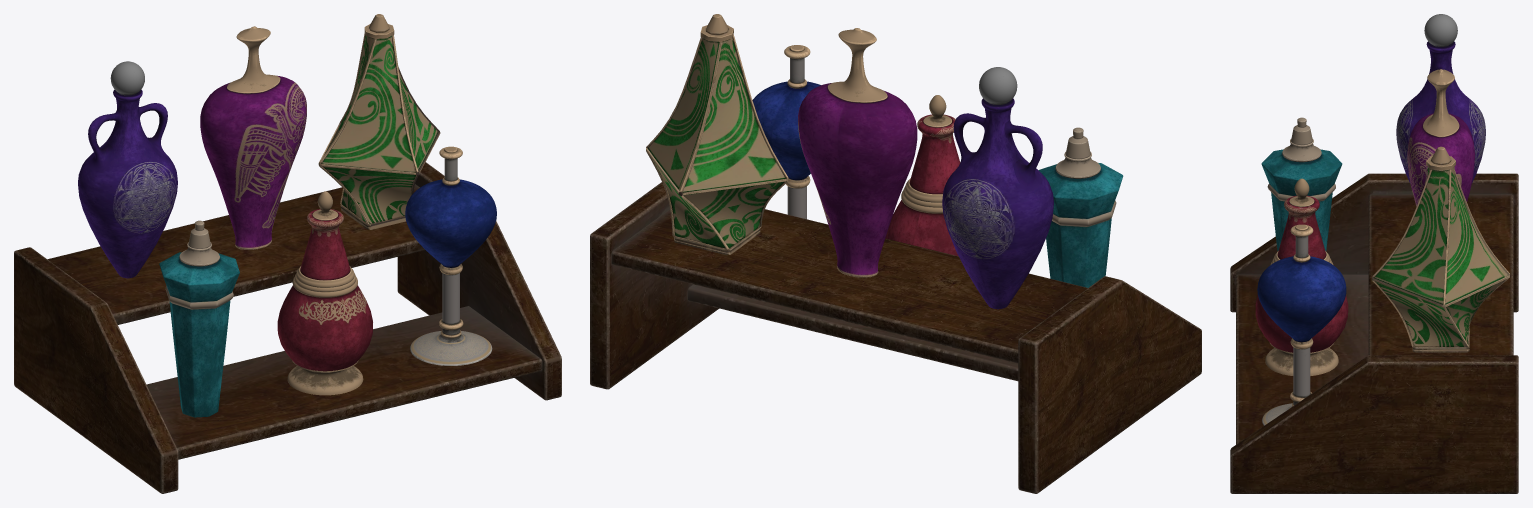
Rendered from potion-transformed.glb.
The picture shows the model from 3 angles, left to right: view 1: azimuth 30°, elevation 25°; view 2: azimuth 150°, elevation 25°; view 3: azimuth 270°, elevation 25°; orthographic projection. The views are drawn at different scales.
Parts seen in each view (by area): view 1: Shelf01_shelf_mt_0, Potion04_potion04_glass_0, Potion07_potion07_glass_0, Potion06_potion06_glass_0, Potion01_potion01_glass_0, Potion03_potion03_glass_0, Potion02_potion02_glass_0, Potion02_potion02_metal_0, Potion01_potion01_metal_0, Potion06_potion06_metal_0, Potion04_potion04_metal_0, Potion03_potion03_metal_0 (+1 smaller); view 2: Shelf01_shelf_mt_0, Potion06_potion06_glass_0, Potion04_potion04_glass_0, Potion07_potion07_glass_0, Potion03_potion03_glass_0, Potion01_potion01_glass_0, Potion06_potion06_metal_0, Potion02_potion02_glass_0, Potion04_potion04_metal_0, Potion02_potion02_metal_0, Potion01_potion01_metal_0, Potion03_potion03_metal_0 (+1 smaller); view 3: Shelf01_shelf_mt_0, Potion06_potion06_glass_0, Potion02_potion02_glass_0, Potion03_potion03_glass_0, Potion07_potion07_glass_0, Potion01_potion01_glass_0, Potion04_potion04_glass_0, Potion06_potion06_metal_0, Potion02_potion02_metal_0, Potion01_potion01_metal_0, Potion04_potion04_metal_0, Potion03_potion03_metal_0 (+1 smaller).
Boxes of the visible parts, box(x1,y1,x2,y2) form: Shelf01_shelf_mt_0: box(14, 162, 561, 493); Potion04_potion04_glass_0: box(200, 75, 306, 249); Potion07_potion07_glass_0: box(78, 89, 177, 278); Potion06_potion06_glass_0: box(321, 35, 438, 223); Potion01_potion01_glass_0: box(277, 209, 372, 371); Potion03_potion03_glass_0: box(159, 252, 239, 417); Potion02_potion02_glass_0: box(405, 179, 496, 267); Potion02_potion02_metal_0: box(410, 146, 492, 365); Potion01_potion01_metal_0: box(287, 191, 363, 395); Potion06_potion06_metal_0: box(318, 14, 440, 229); Potion04_potion04_metal_0: box(227, 26, 280, 93); Potion03_potion03_metal_0: box(179, 220, 219, 266); Shelf01_shelf_mt_0: box(590, 182, 1201, 493); Potion06_potion06_glass_0: box(648, 38, 785, 248); Potion04_potion04_glass_0: box(798, 83, 917, 277); Potion07_potion07_glass_0: box(942, 98, 1053, 309); Potion03_potion03_glass_0: box(1038, 163, 1123, 287); Potion01_potion01_glass_0: box(885, 114, 960, 256); Potion06_potion06_metal_0: box(646, 14, 788, 255); Potion02_potion02_glass_0: box(752, 81, 820, 180); Potion04_potion04_metal_0: box(827, 28, 887, 102); Potion02_potion02_metal_0: box(784, 45, 810, 219); Potion01_potion01_metal_0: box(901, 95, 951, 213); Potion03_potion03_metal_0: box(1055, 127, 1100, 178); Shelf01_shelf_mt_0: box(1230, 173, 1518, 493); Potion06_potion06_glass_0: box(1374, 167, 1508, 346); Potion02_potion02_glass_0: box(1257, 256, 1346, 342); Potion03_potion03_glass_0: box(1261, 149, 1342, 251); Potion07_potion07_glass_0: box(1396, 41, 1485, 183); Potion01_potion01_glass_0: box(1255, 195, 1348, 352); Potion04_potion04_glass_0: box(1407, 113, 1474, 206); Potion06_potion06_metal_0: box(1372, 146, 1510, 352); Potion02_potion02_metal_0: box(1262, 224, 1313, 425); Potion01_potion01_metal_0: box(1265, 178, 1338, 375); Potion04_potion04_metal_0: box(1423, 69, 1459, 137); Potion03_potion03_metal_0: box(1282, 117, 1321, 162).
Size of the model in its own units: 0.4869 by 0.3942 by 0.3125.
13 materials, 13 textured.
